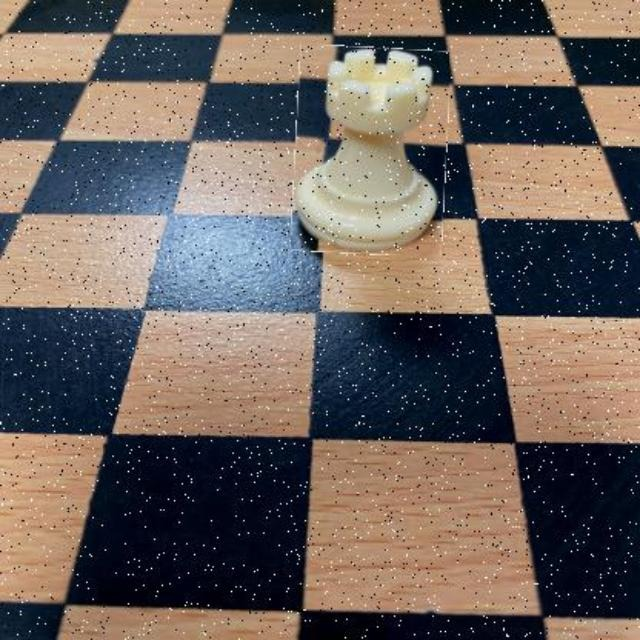white-rook: (293, 48, 448, 256)
